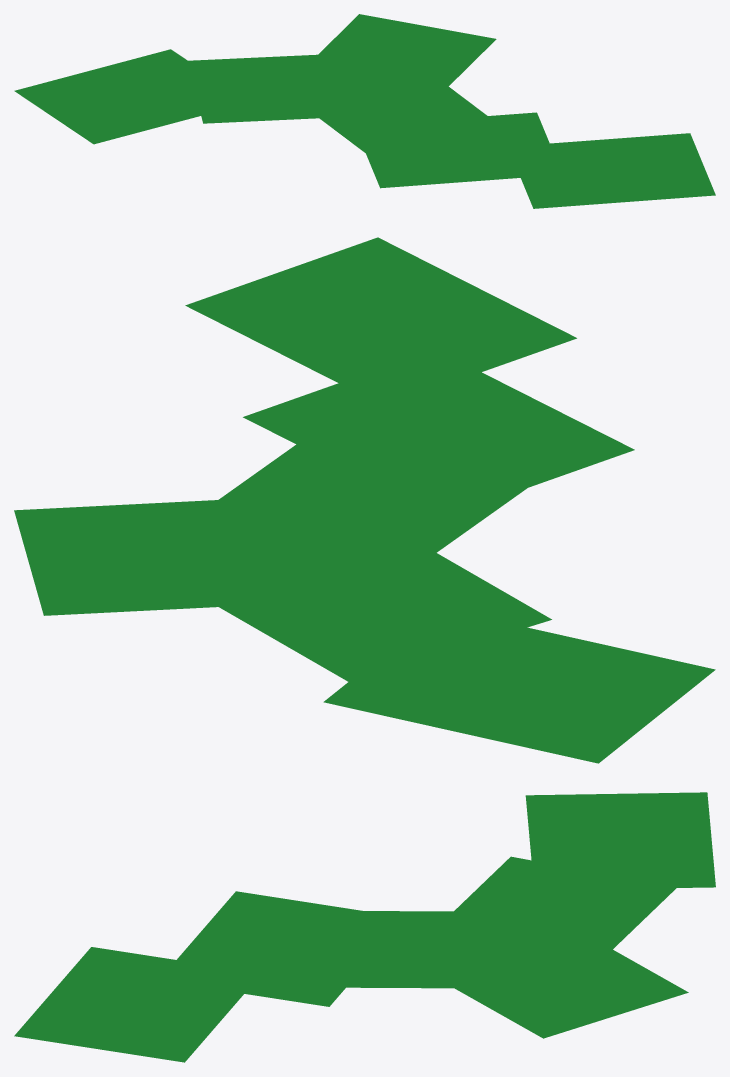
Rendered from footprints 2.FBX.
3 views of the same model, one above another, from view 1: azimuth 30°, elevation 25°; view 2: azimuth 150°, elevation 25°; view 3: azimuth 270°, elevation 25° (orthographic). The views are drawn at different scales.
Visible parts, largest first — view 1: footprint012; view 2: footprint012; view 3: footprint012.
Part boxes in pixels (bbox=[...]): footprint012: bbox=[14, 14, 715, 208]; footprint012: bbox=[14, 237, 715, 763]; footprint012: bbox=[14, 792, 715, 1062].
Bounding box in the file's own units: 19.68 × 0.1081 × 21.35.
